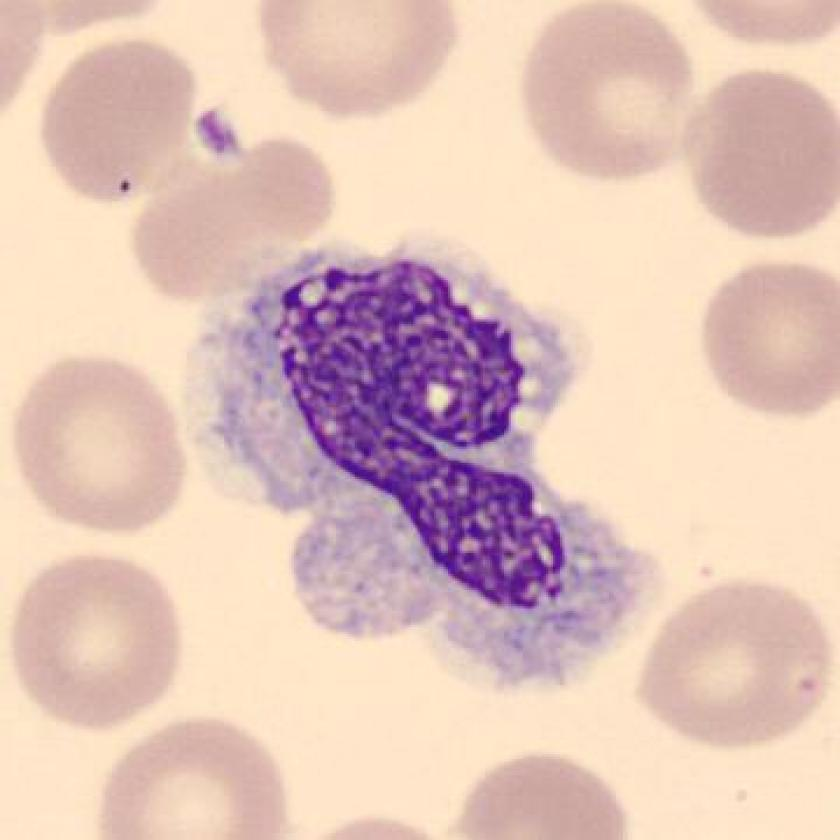monocyte: (178, 212, 680, 725)
